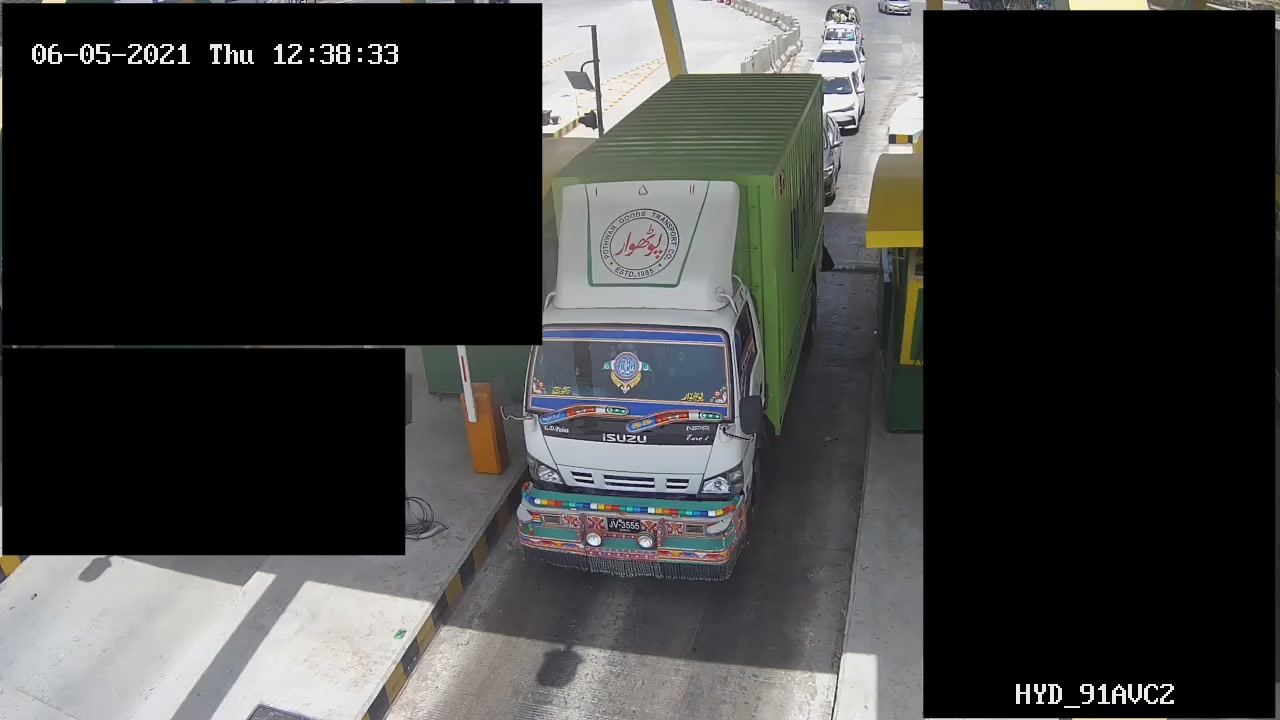F5: (521, 64, 824, 587)
